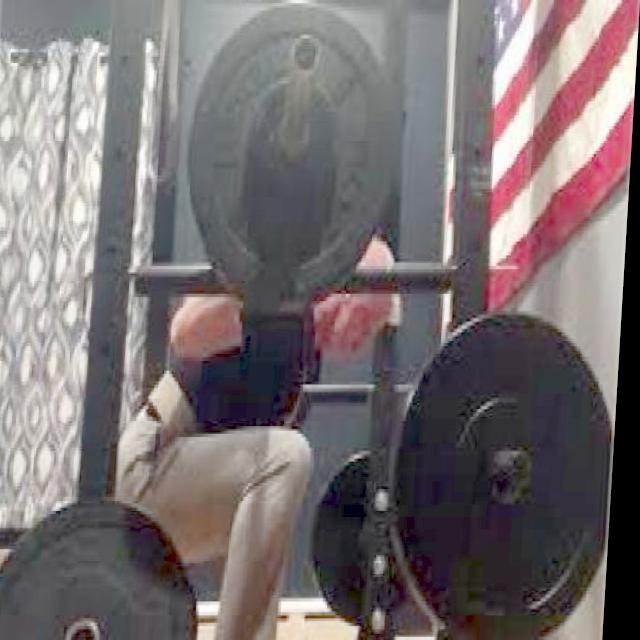barbell: (174, 1, 418, 316)
